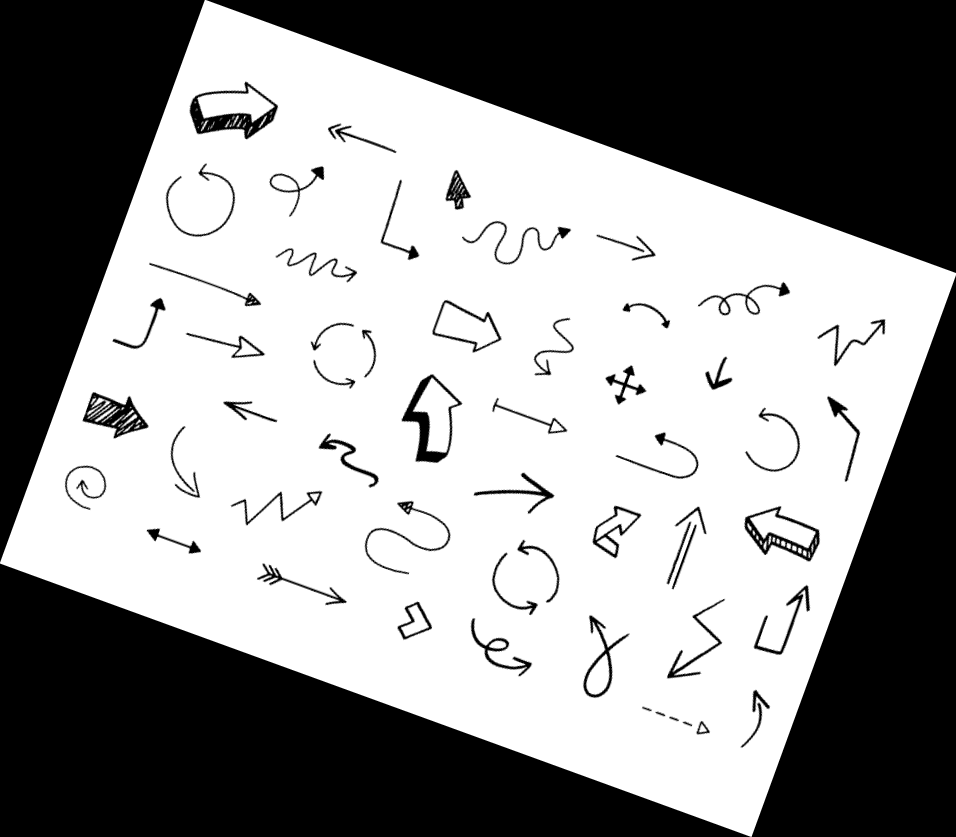arrow: (396, 372, 467, 470), (184, 77, 283, 145), (737, 497, 824, 570), (420, 289, 509, 354), (489, 464, 558, 518), (599, 359, 656, 413), (664, 634, 716, 681), (670, 502, 710, 560), (325, 114, 379, 153), (610, 224, 658, 266), (779, 582, 812, 641), (442, 164, 476, 221), (388, 496, 446, 528), (167, 460, 210, 503), (208, 278, 264, 311), (750, 405, 805, 438), (215, 329, 268, 362), (192, 163, 238, 200), (300, 576, 350, 609), (518, 406, 569, 438), (602, 501, 644, 539), (702, 352, 737, 397), (665, 709, 714, 740), (223, 393, 269, 426), (490, 588, 543, 616), (820, 392, 858, 431), (743, 687, 772, 736), (648, 429, 696, 458), (310, 424, 357, 453), (308, 317, 341, 353), (289, 486, 322, 521), (142, 295, 167, 341), (356, 328, 386, 365), (300, 161, 328, 198), (513, 539, 553, 564), (543, 221, 574, 253), (498, 653, 534, 680), (389, 235, 421, 265), (147, 523, 181, 551), (313, 371, 358, 392), (858, 316, 890, 345), (759, 277, 792, 304), (524, 352, 555, 379), (586, 612, 611, 644), (338, 264, 363, 284)
